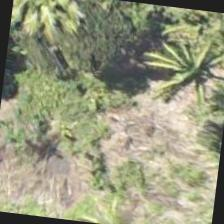Kelapa_Sawit: (138, 23, 223, 124), (17, 0, 115, 64)
